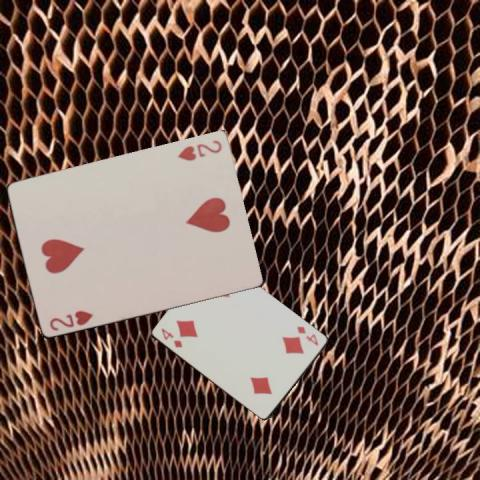2h: (46, 307, 94, 333), (175, 137, 223, 163)
4d: (294, 324, 320, 348), (158, 325, 184, 349)
